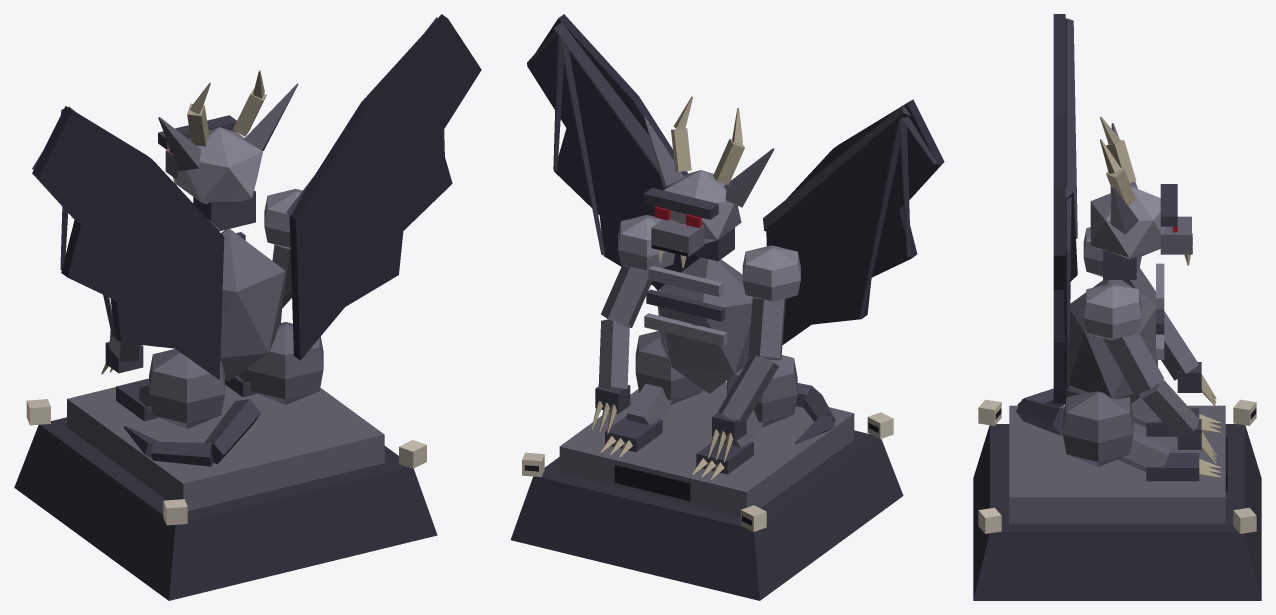
The model's file is Decor_VampireCrypt_Statue.fbx.
3 renders of one model, left to right at view 1: azimuth 30°, elevation 25°; view 2: azimuth 150°, elevation 25°; view 3: azimuth 270°, elevation 25°, orthographic. The views are drawn at different scales.
Visible parts, largest first — view 1: Statue_Body; view 2: Statue_Body; view 3: Statue_Body.
Part boxes in pixels (left/top/right/bottom): Statue_Body: left=14, top=14, right=481, bottom=600; Statue_Body: left=510, top=14, right=944, bottom=600; Statue_Body: left=973, top=14, right=1261, bottom=600.
Bounding box in the file's own units: 19.85 × 20.2 × 12.
